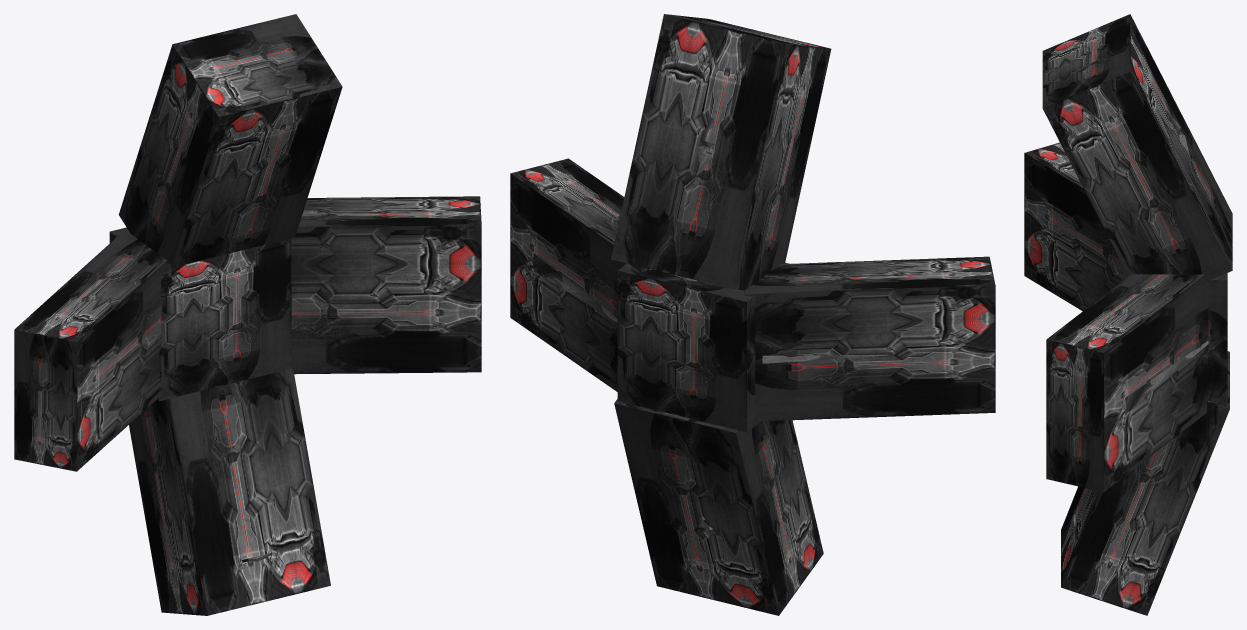
File: capsule_whitebox_open.fbx
3 views of the same model, side by side, from view 1: azimuth 30°, elevation 25°; view 2: azimuth 150°, elevation 25°; view 3: azimuth 270°, elevation 25° (orthographic). The views are drawn at different scales.
Parts seen in each view (by area): view 1: proxy05, proxy04, proxy02, proxy03, proxy06; view 2: proxy05, proxy03, proxy04, proxy06, proxy02, capsule_whitebox_open; view 3: proxy05, proxy02, proxy04, proxy03, proxy06, capsule_whitebox_open.
Boxes of the visible parts, left/top/right/bottom form: proxy05: left=118, top=14, right=342, bottom=267; proxy04: left=129, top=368, right=330, bottom=615; proxy02: left=291, top=196, right=481, bottom=374; proxy03: left=14, top=232, right=167, bottom=471; proxy06: left=109, top=227, right=291, bottom=401; proxy05: left=611, top=14, right=831, bottom=290; proxy03: left=744, top=256, right=995, bottom=421; proxy04: left=614, top=399, right=823, bottom=615; proxy06: left=617, top=262, right=789, bottom=432; proxy02: left=510, top=158, right=651, bottom=391; capsule_whitebox_open: left=532, top=117, right=893, bottom=538; proxy05: left=1042, top=14, right=1232, bottom=281; proxy02: left=1046, top=274, right=1208, bottom=492; proxy04: left=1061, top=351, right=1229, bottom=615; proxy03: left=1024, top=142, right=1127, bottom=311; proxy06: left=1208, top=273, right=1227, bottom=406; capsule_whitebox_open: left=1030, top=110, right=1208, bottom=526.
Size of the model in its own units: 6.5 by 7.45 by 2.57.
